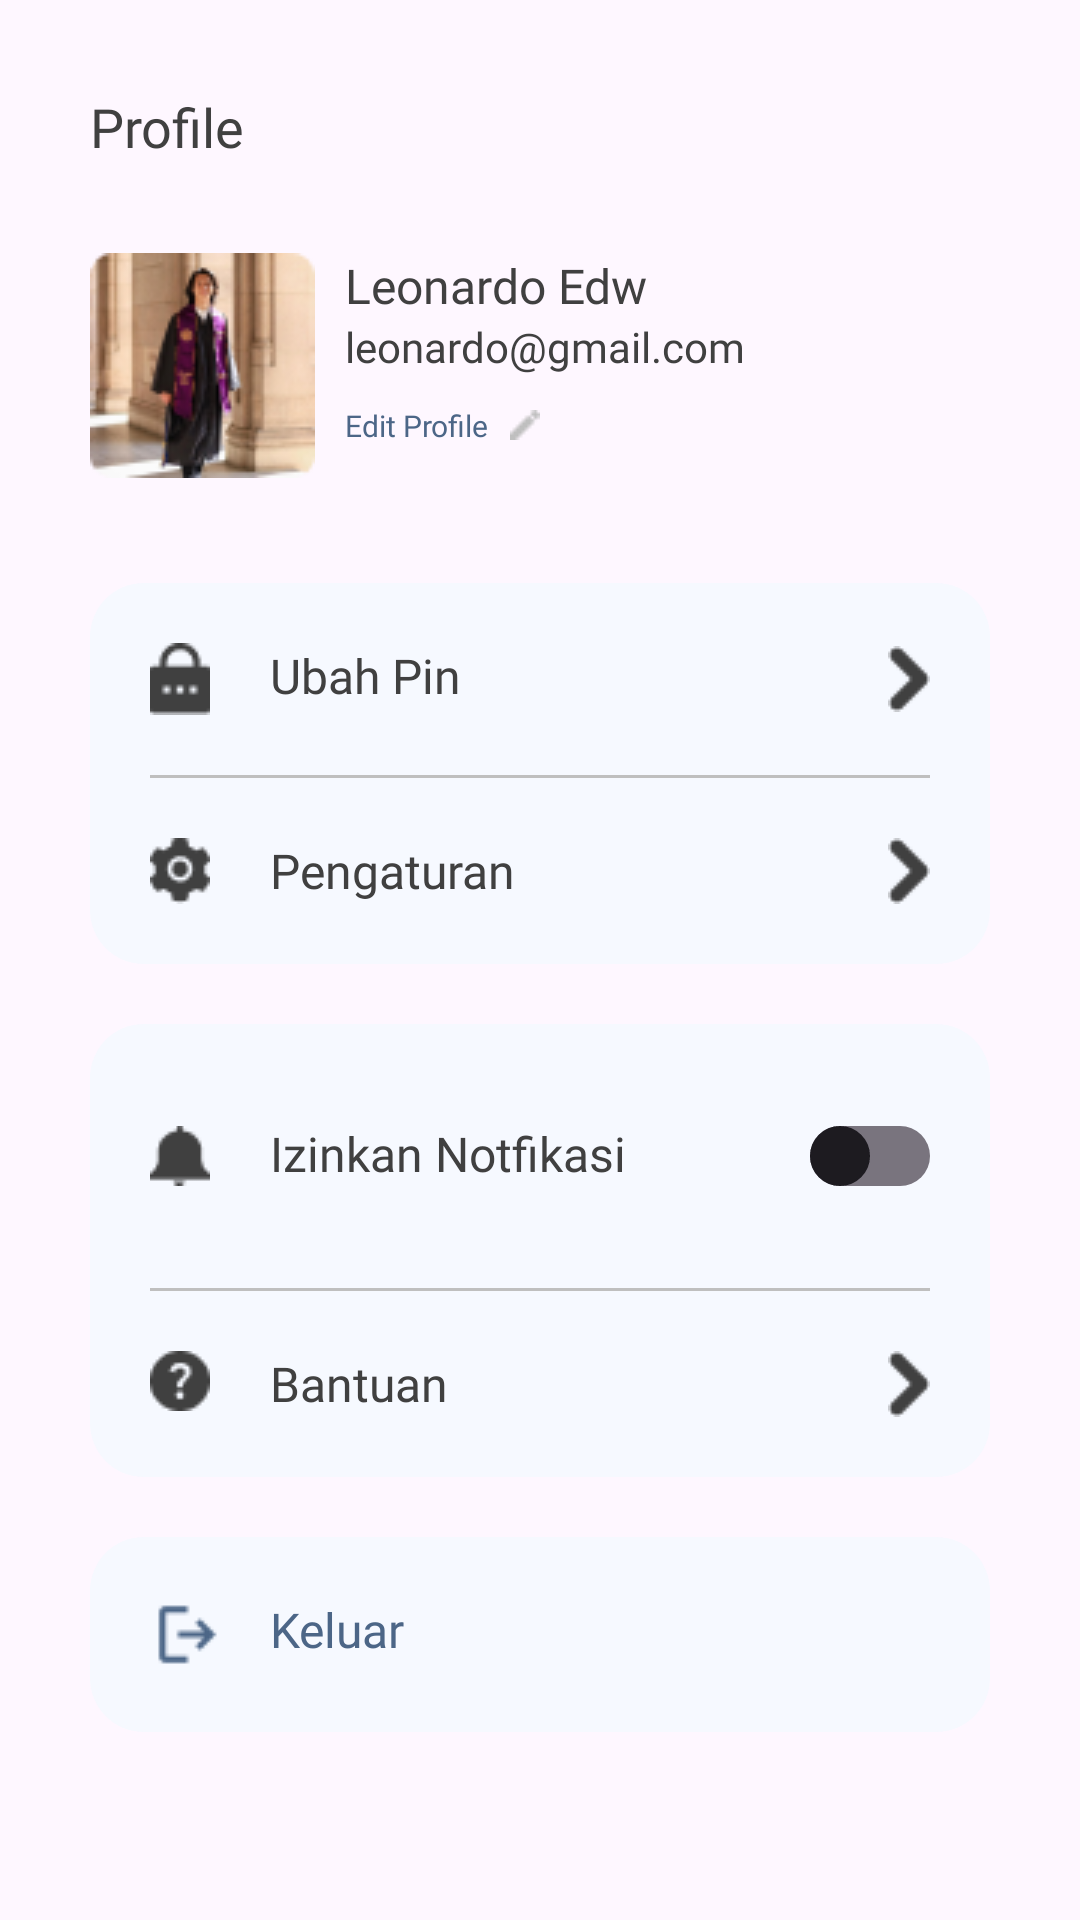

Screen size 1080*1920. Icon name, then its center in pixels as [x,y]:
arrow right profile: [909,679], [909,871], [909,1384]
gembok: [180,679]
notif profile: [180,1156]
